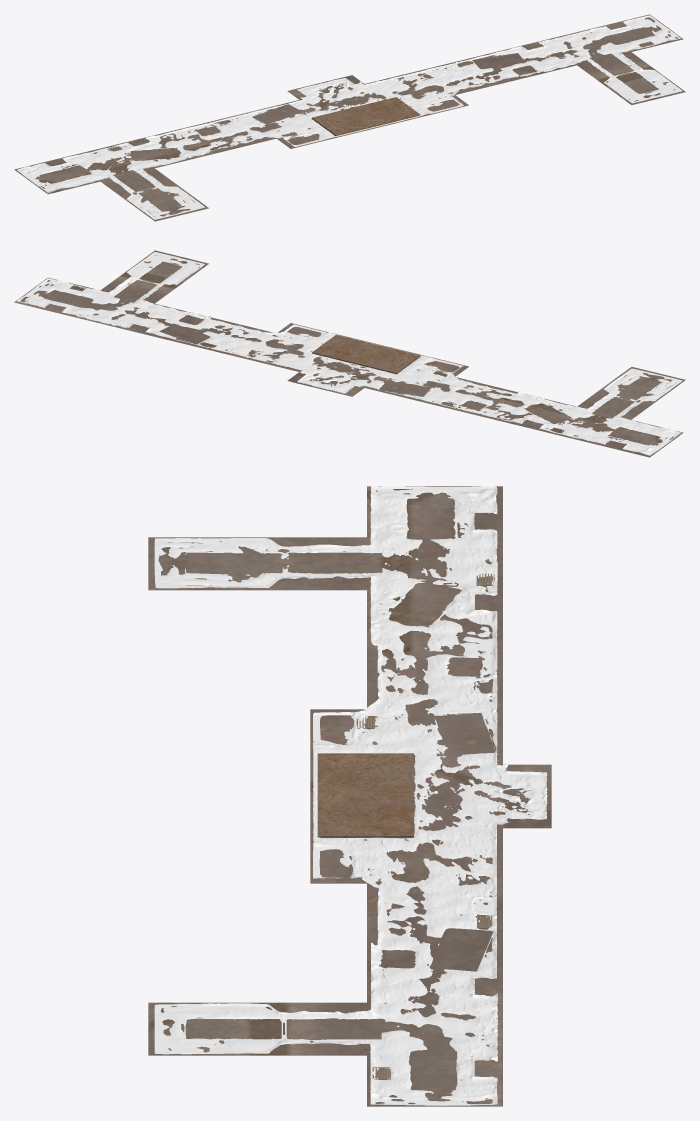
Rendered from xi_dsp_market_ground.gltf.
The picture shows the model from 3 angles, top to bottom: view 1: azimuth 30°, elevation 25°; view 2: azimuth 150°, elevation 25°; view 3: azimuth 270°, elevation 25°; orthographic projection. The views are drawn at different scales.
Visible parts, largest first — view 1: xi_dsp_market_ground; view 2: xi_dsp_market_ground; view 3: xi_dsp_market_ground.
Part boxes in pixels (x1,y1,x2,y2): xi_dsp_market_ground: (14,14,685,221); xi_dsp_market_ground: (14,250,685,457); xi_dsp_market_ground: (148,486,551,1106).
Size of the model in its own units: 130 by 0.5947 by 35.74.
3 materials, 2 textured.
